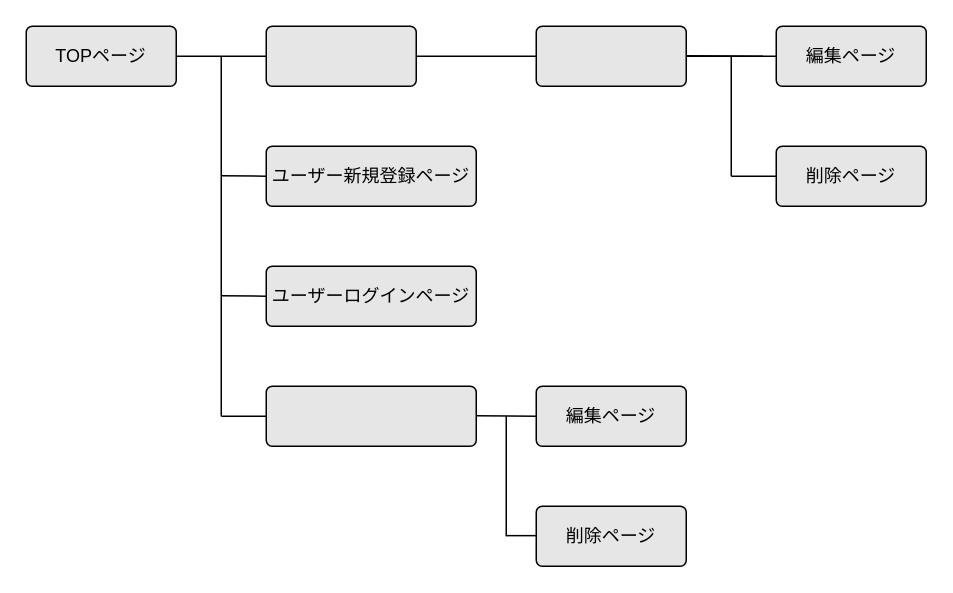
Image size: 953x593. Some labels were removed from this diagram. Each missing label, with the centre of its shape:
ユーザー詳細ページ: (370,415)
投稿ページ: (340,55)
詳細ページ: (610,55)
